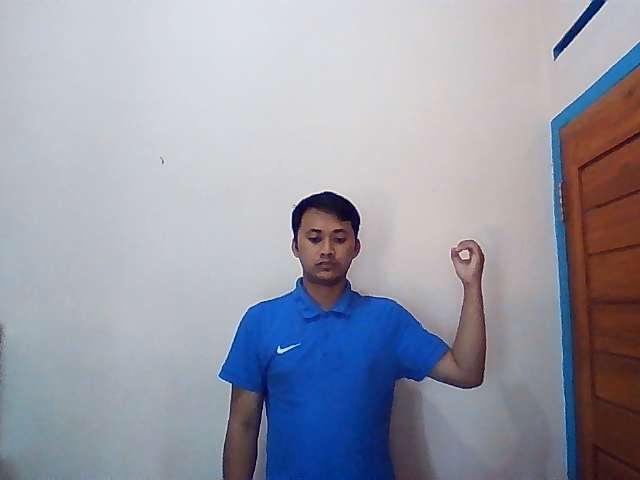O: (449, 238, 487, 285)
